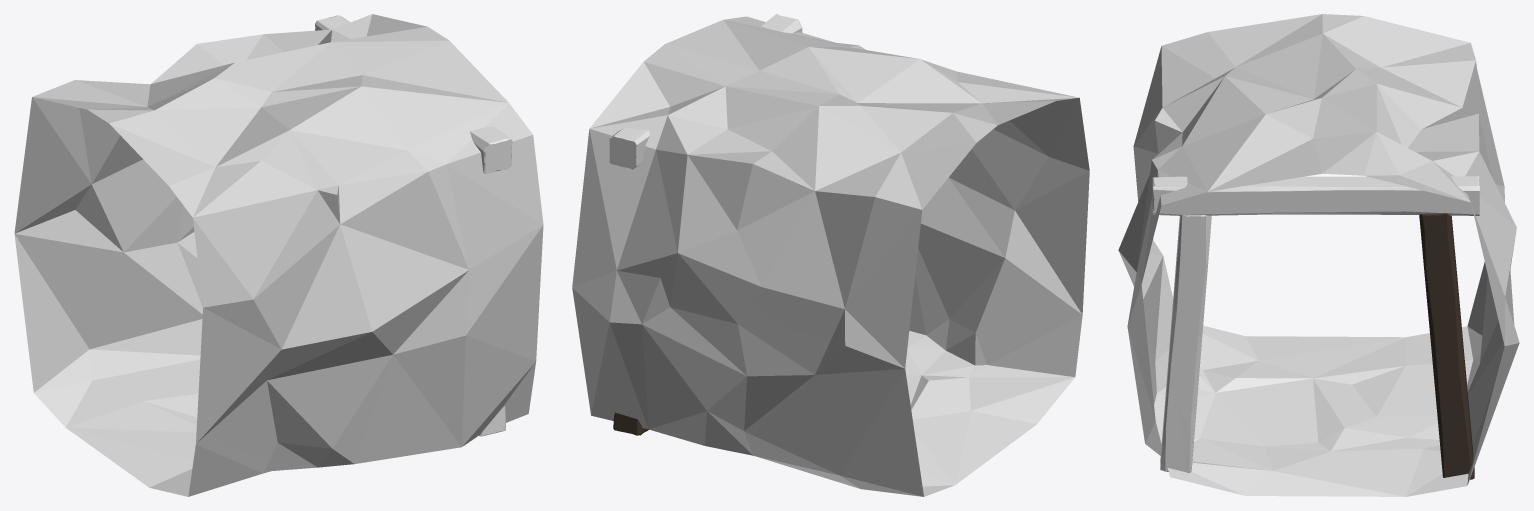
The model's file is SM_Spline3_LP_Pillars.fbx.
3 renders of one model, left to right at view 1: azimuth 30°, elevation 25°; view 2: azimuth 150°, elevation 25°; view 3: azimuth 270°, elevation 25°, orthographic. The views are drawn at different scales.
Visible parts, largest first — view 1: Spline3_LP; view 2: Spline3_LP; view 3: Spline3_LP.
Part boxes in pixels (left/top/right/bottom): Spline3_LP: left=14, top=14, right=543, bottom=496; Spline3_LP: left=572, top=14, right=1089, bottom=496; Spline3_LP: left=1118, top=14, right=1519, bottom=496.
Bounding box in the file's own units: 323 × 304 × 291.
